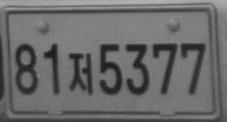1: (41, 43, 66, 94)
3: (125, 43, 150, 95)
5: (99, 43, 122, 95)
7: (151, 42, 178, 95), (180, 42, 206, 94)
8: (13, 43, 39, 95)
저: (68, 52, 93, 95)
